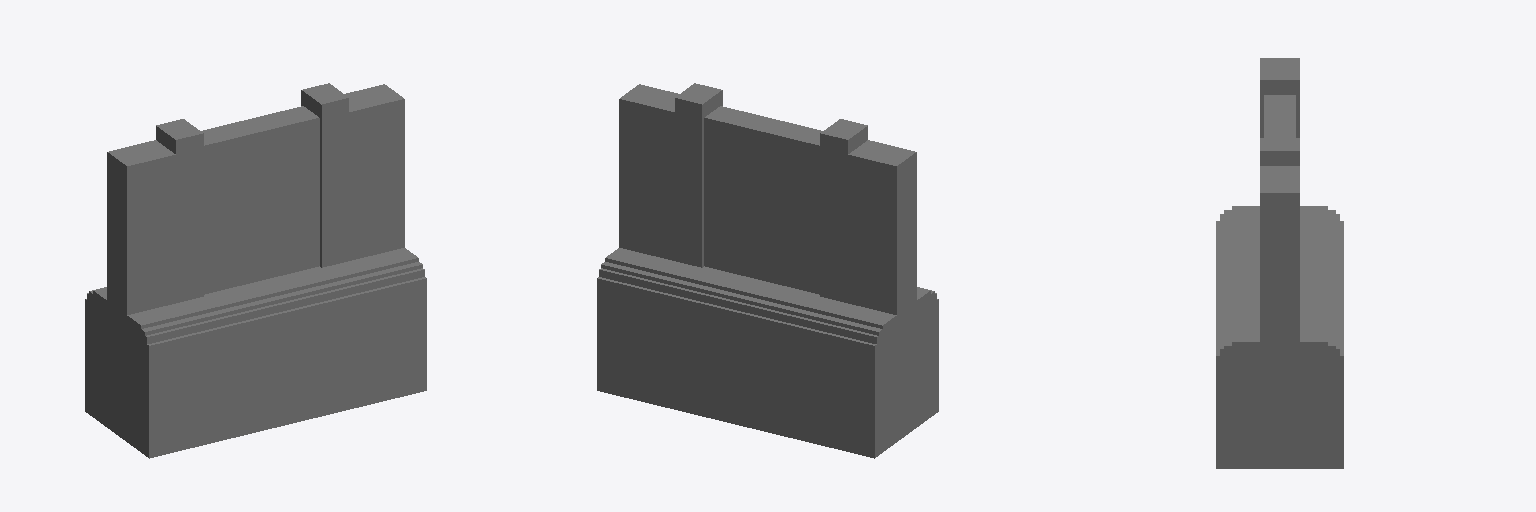
3 views of the same model, side by side, from view 1: azimuth 30°, elevation 25°; view 2: azimuth 150°, elevation 25°; view 3: azimuth 270°, elevation 25° (orthographic).
Visible parts, largest first — view 1: border; view 2: border; view 3: border.
Boxes of the visible parts, <box> form: border: <box>85,83,426,458</box>; border: <box>597,83,938,458</box>; border: <box>1216,58,1343,468</box>.
Size of the model in its own units: 80 by 80 by 32.
Materials: 1 (1 with a texture image).